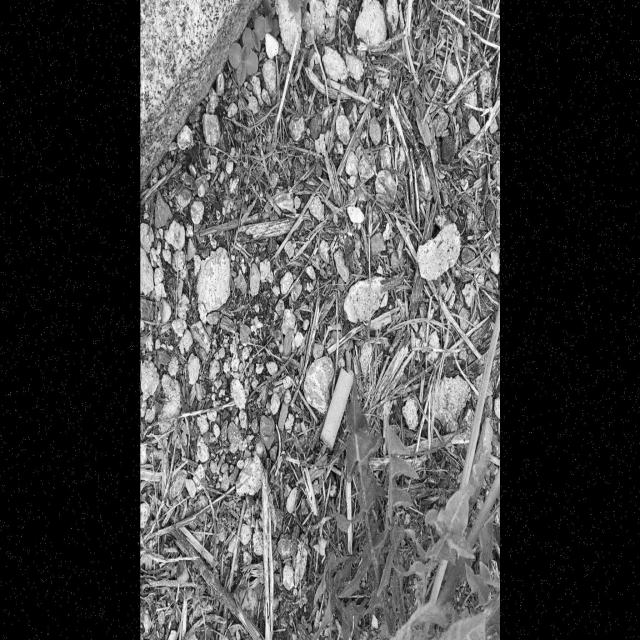other waste: (318, 368, 354, 452)
